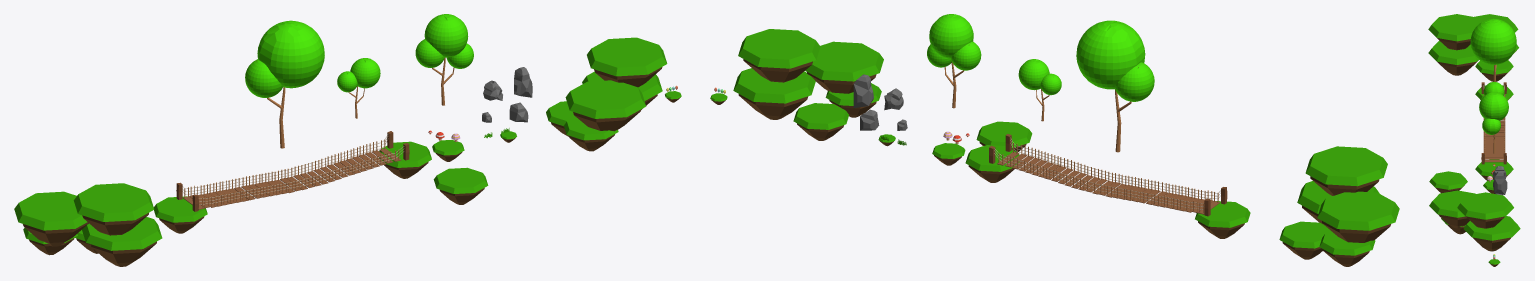
File: Scenes.glb
3 views of the same model, side by side, from view 1: azimuth 30°, elevation 25°; view 2: azimuth 150°, elevation 25°; view 3: azimuth 270°, elevation 25° (orthographic). The views are drawn at different scales.
Visible parts, largest first — view 1: Platform Limit Right, Platform Limit Left, Platform With Bridge, Tree Big, Tree Middle, Platform Big, Tree. Small, Platform Middle, Rock Big; view 2: Platform Limit Left, Platform Limit Right, Platform With Bridge, Tree Big, Tree Middle, Tree. Small, Platform Big, Rock Big, Platform Middle; view 3: Platform Limit Left, Platform Limit Right, Tree Big, Platform With Bridge, Tree Middle, Platform Big, Rock Big, Tree. Small, Platform Middle, Rock Middle 01, Platform Small.
Part boxes in pixels (x1,y1,x2,y2): Platform Limit Right: (14,183,162,266); Platform Limit Left: (546,37,667,151); Platform With Bridge: (154,131,431,233); Tree Big: (245,20,324,148); Tree Middle: (415,14,473,105); Platform Big: (433,167,488,204); Tree. Small: (337,58,380,118); Platform Middle: (432,140,464,161); Rock Big: (514,67,532,97); Platform Limit Left: (733,29,883,140); Platform Limit Right: (1279,146,1399,266); Platform With Bridge: (965,134,1250,238); Tree Big: (1076,20,1154,152); Tree Middle: (927,14,981,108); Tree. Small: (1018,59,1061,121); Platform Big: (976,121,1032,151); Rock Big: (853,74,873,107); Platform Middle: (932,143,965,165); Platform Limit Left: (1429,190,1520,251); Platform Limit Right: (1428,14,1518,81); Tree Big: (1470,18,1516,81); Platform With Bridge: (1475,82,1513,180); Tree Middle: (1479,92,1508,153); Platform Big: (1429,171,1467,193); Rock Big: (1493,171,1507,194); Tree. Small: (1483,81,1504,95); Platform Middle: (1483,179,1495,193); Rock Middle 01: (1492,166,1506,179); Platform Small: (1488,259,1500,266).
Bounding box in the file's own units: 98.53 × 26.63 × 17.28.
